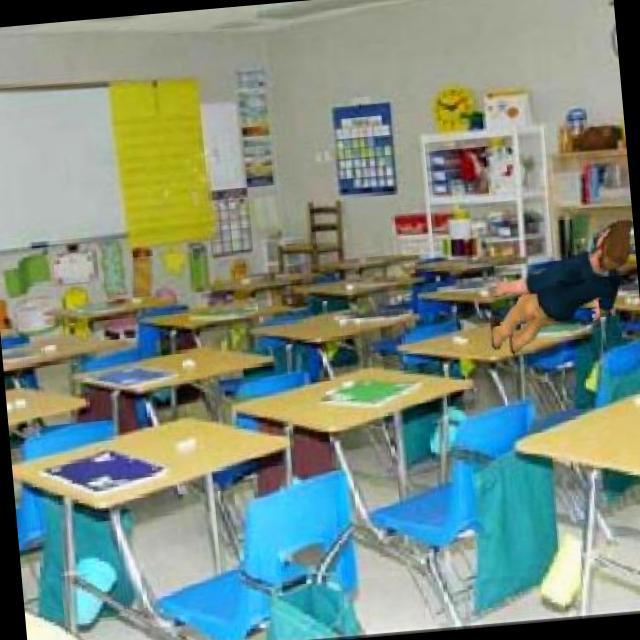Person: (477, 212, 640, 359)
